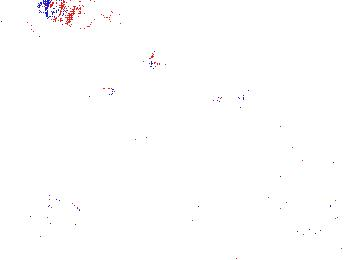X-ray fish: (34, 1, 111, 29)
glassfish: (72, 124, 184, 187)
red belly glassfish: (105, 44, 158, 63), (70, 82, 118, 99), (211, 90, 245, 108), (146, 54, 169, 73)
redtail glassfish: (1, 11, 45, 40)
